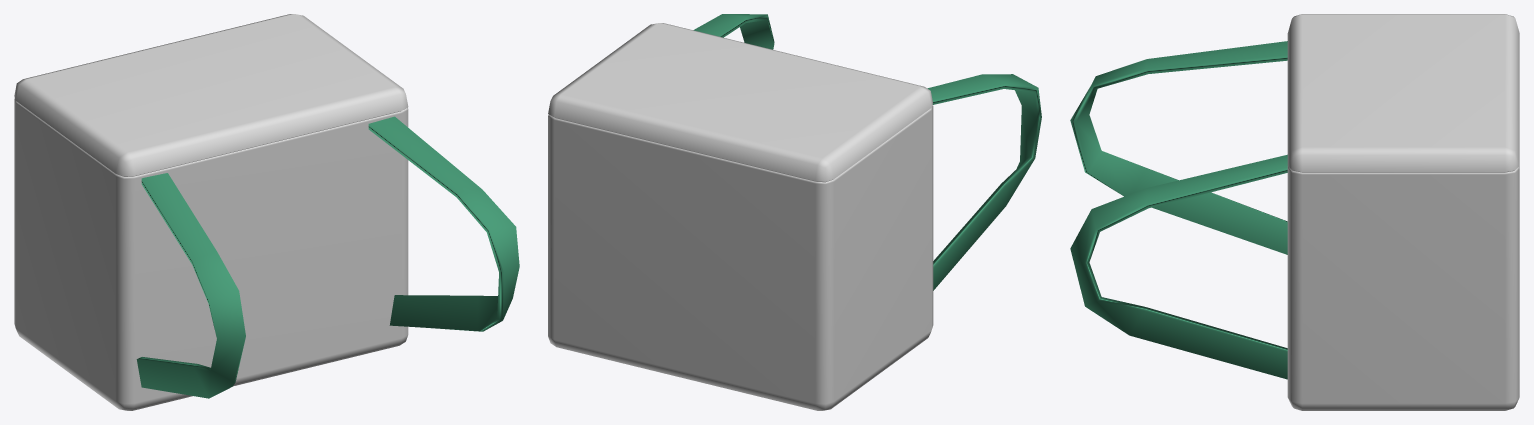
The picture shows the model from 3 angles, left to right: view 1: azimuth 30°, elevation 25°; view 2: azimuth 150°, elevation 25°; view 3: azimuth 270°, elevation 25°; orthographic projection. The views are drawn at different scales.
Parts seen in each view (by area): view 1: Box_2; view 2: Box_2; view 3: Box_2.
Boxes of the visible parts, x1,y1,x2,y2 form: Box_2: (14,14,519,410); Box_2: (548,14,1041,410); Box_2: (1070,14,1519,410).
Size of the model in its own units: 0.6214 by 0.5006 by 0.774.
